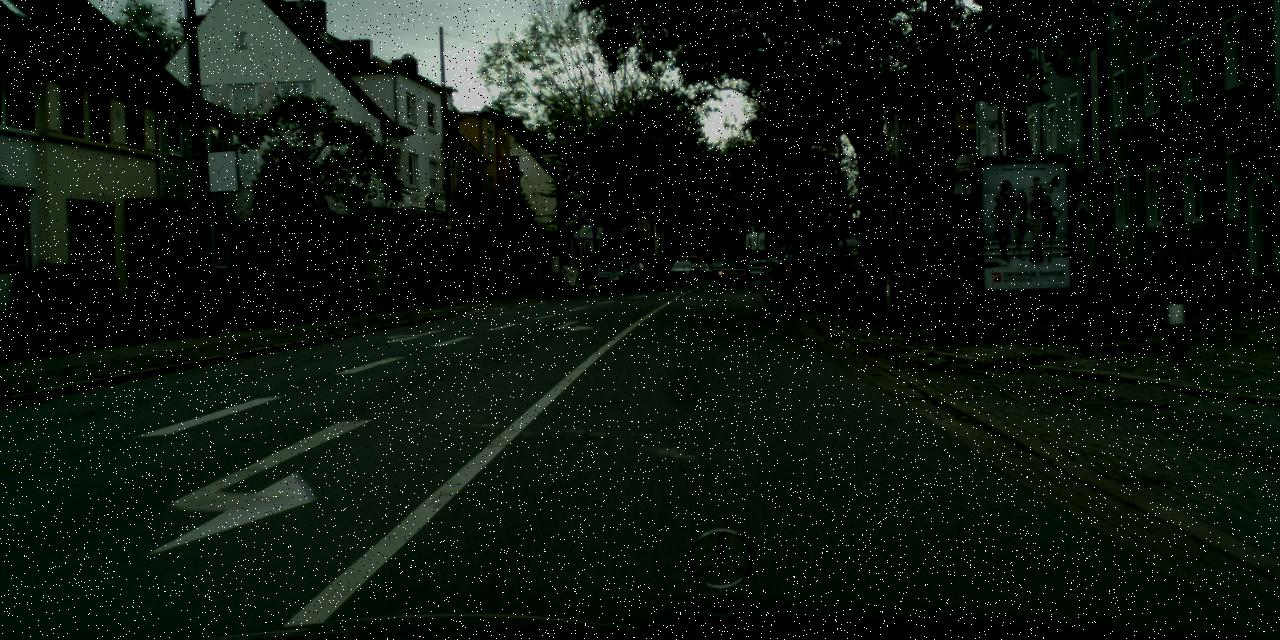ped: (904, 240, 920, 278)
